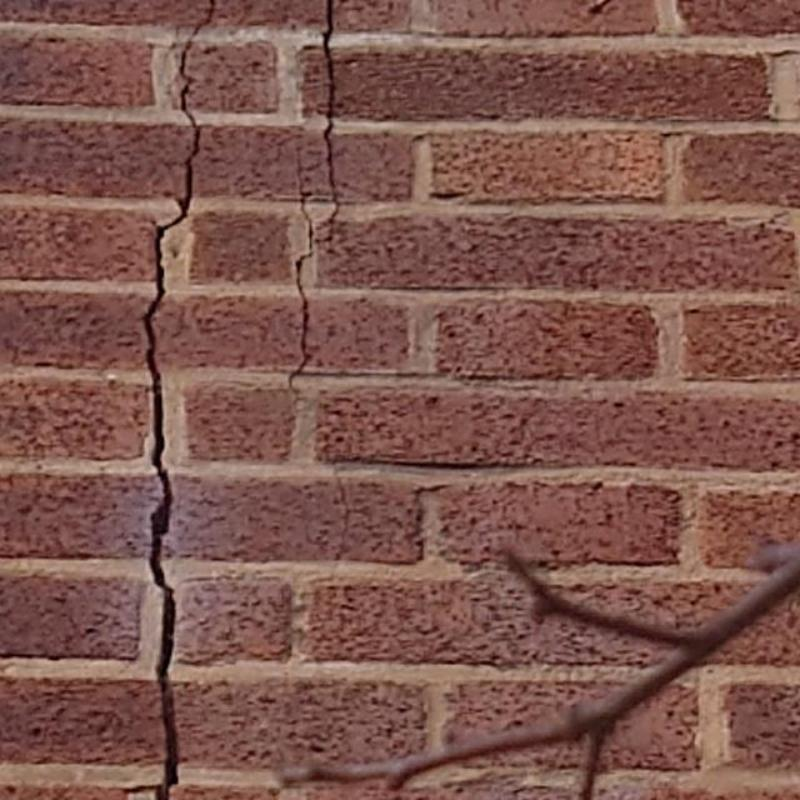crack: (142, 0, 215, 799), (289, 194, 312, 390), (322, 0, 341, 223), (332, 466, 351, 566)
